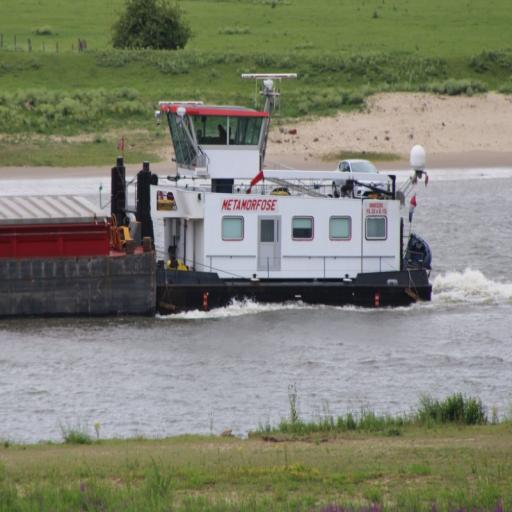tugboat: (101, 70, 439, 320)
